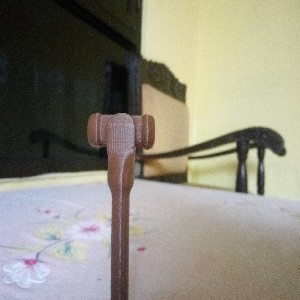palu: (86, 111, 154, 300)
